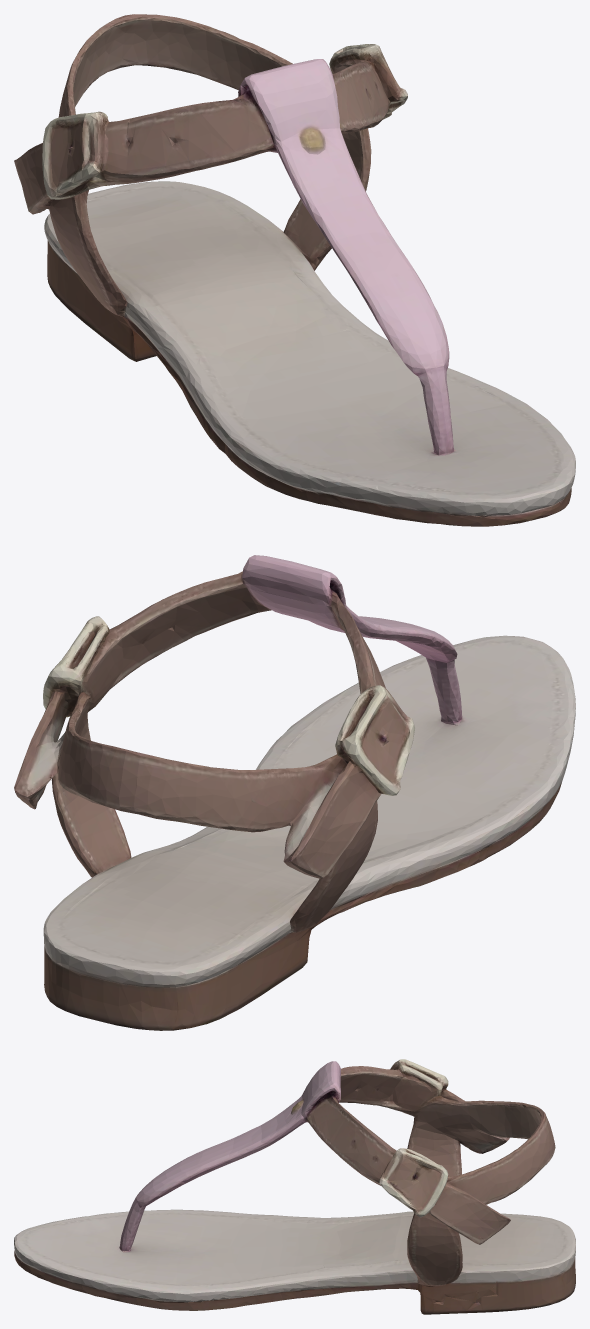
3 renders of one model, top to bottom at view 1: azimuth 30°, elevation 25°; view 2: azimuth 150°, elevation 25°; view 3: azimuth 270°, elevation 25°, orthographic. The views are drawn at different scales.
Visible parts, largest first — view 1: world; view 2: world; view 3: world.
Boxes of the visible parts, bbox=[...] form: world: bbox=[14, 14, 575, 526]; world: bbox=[14, 555, 575, 1030]; world: bbox=[14, 1059, 575, 1314].
Bounding box in the file's own units: 0.4624 × 0.4207 × 1.
1 material, 1 textured.
